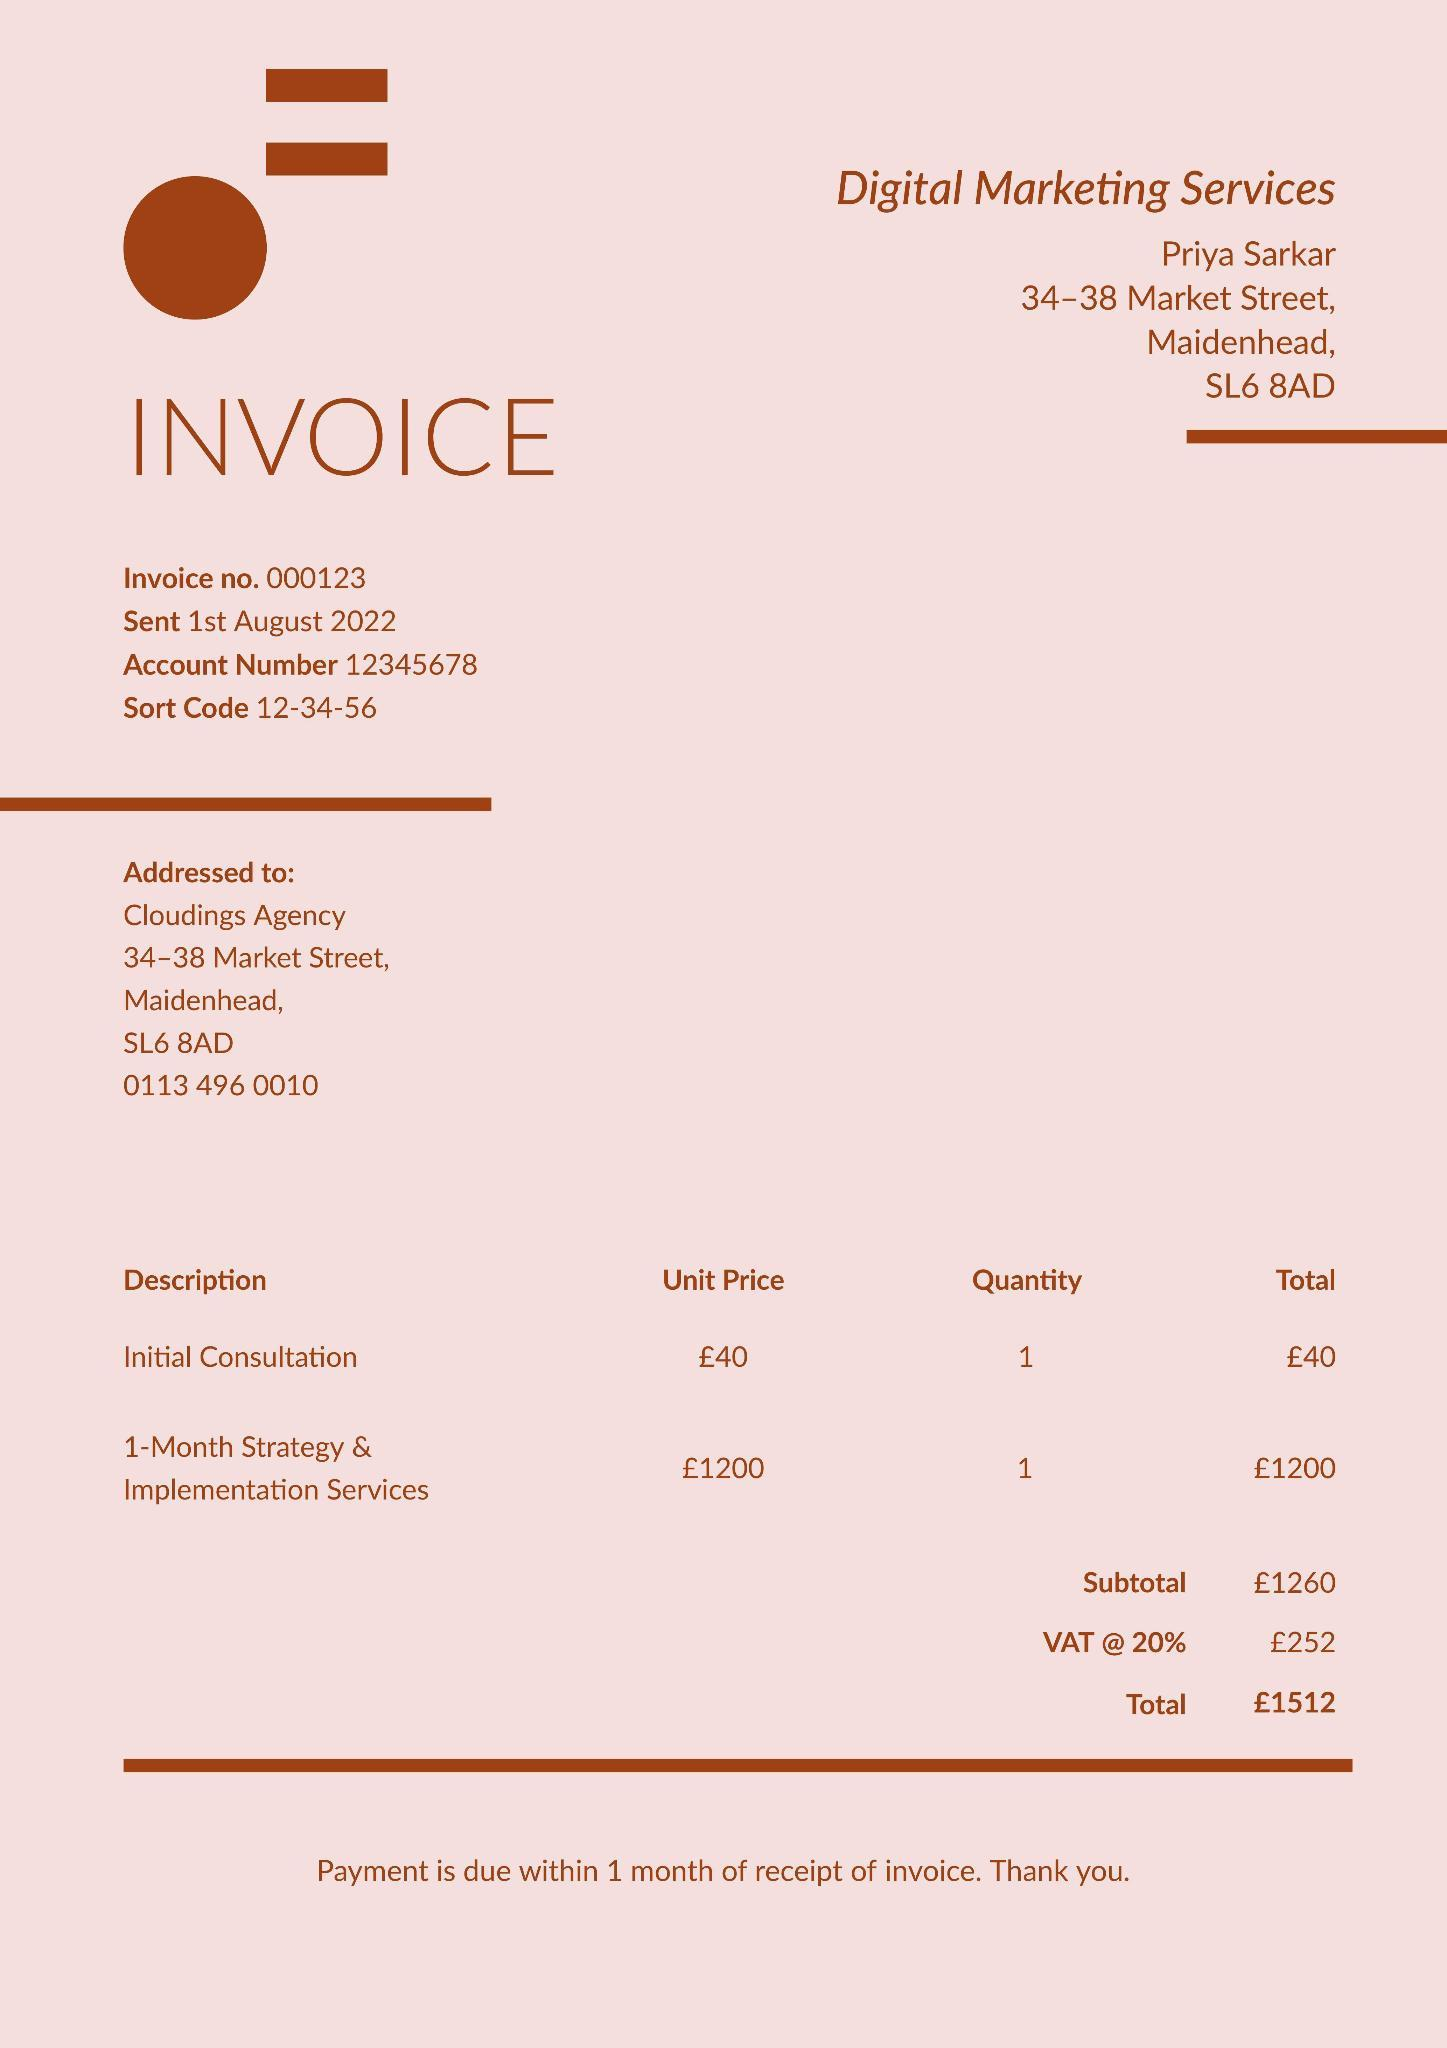ROI: (58, 1200, 1398, 1525), (818, 142, 1372, 413), (87, 825, 412, 1120), (96, 534, 511, 735), (292, 1830, 1143, 1915), (1020, 1557, 1370, 1739), (103, 380, 585, 510)
